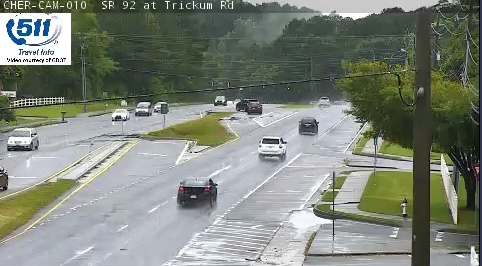car: (177, 178, 217, 204), (259, 137, 286, 157), (299, 117, 318, 133)
